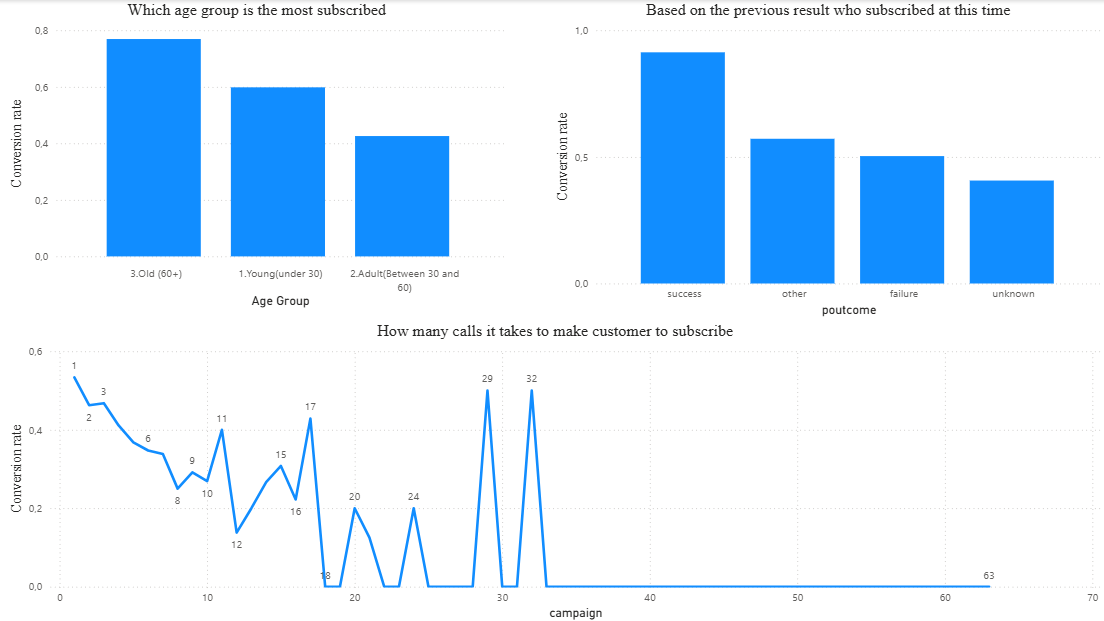

This screenshot's page, from the dashboard's own definition file:
{"tool":"powerbi","page":{"name":"visuals 2","canvas":[1280,720],"ordinal":1},"visuals":[{"type":"clusteredColumnChart","title":"Which age group is the most subscribed","fields":{"Y":["Avg(public bank_cleaned.deposit_num)"],"Category":["public bank_cleaned.Age Group"]},"box":[10.3,0,580.9,359.8],"z":0},{"type":"clusteredColumnChart","title":"Based on the previous result who subscribed at this time","fields":{"Category":["public bank_cleaned.poutcome"],"Y":["Avg(public bank_cleaned.deposit_num)"]},"box":[640,0,640,370.1],"z":1000},{"type":"lineChart","title":"How many calls it takes to make customer to subscribe","fields":{"Category":["public bank_cleaned.campaign"],"Y":["Avg(public bank_cleaned.deposit_num)"]},"box":[10.3,370.1,1269.7,349.6],"z":2000}]}

Visuals, with their boxes in screenshot pixels (x1, y1, x2, y2), scaled from the page's 1280x720 canvas onto the 1104x621 screenshot:
"Which age group is the most subscribed" clusteredColumnChart: {"x1": 9, "y1": 0, "x2": 510, "y2": 310}
"Based on the previous result who subscribed at this time" clusteredColumnChart: {"x1": 552, "y1": 0, "x2": 1103, "y2": 319}
"How many calls it takes to make customer to subscribe" lineChart: {"x1": 9, "y1": 319, "x2": 1103, "y2": 620}
